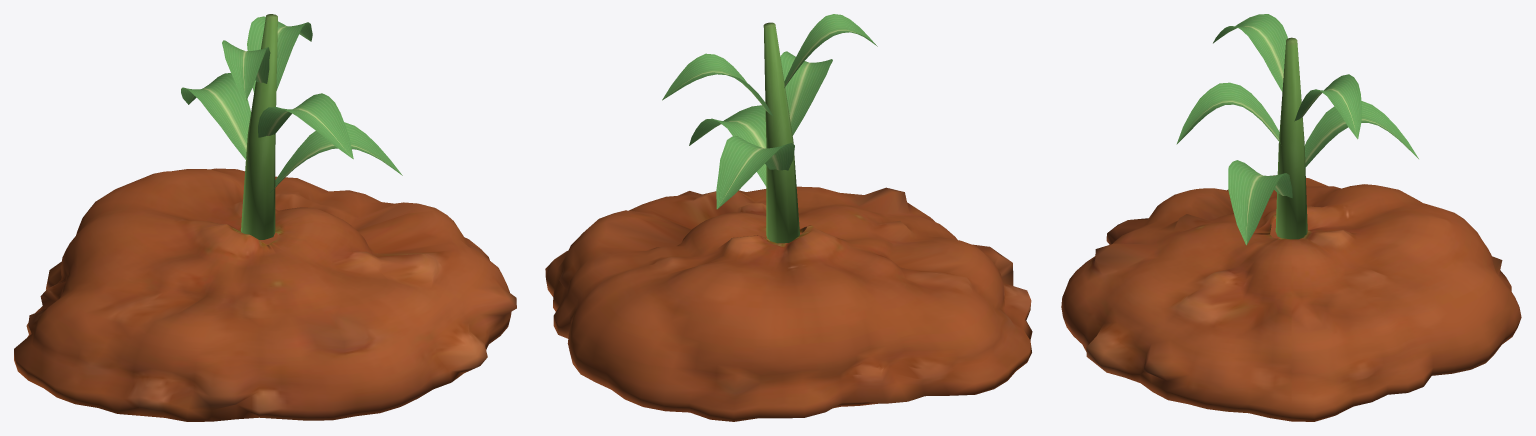
3 views of the same model, side by side, from view 1: azimuth 30°, elevation 25°; view 2: azimuth 150°, elevation 25°; view 3: azimuth 270°, elevation 25° (orthographic). The views are drawn at different scales.
Visible parts, largest first — view 1: corn-growing; view 2: corn-growing; view 3: corn-growing.
Part boxes in pixels (<box>): corn-growing: <box>14,14,516,421</box>; corn-growing: <box>545,14,1032,421</box>; corn-growing: <box>1061,14,1521,421</box>.
Size of the model in its own units: 0.7926 by 0.5047 by 0.7345.
1 material, 1 textured.
